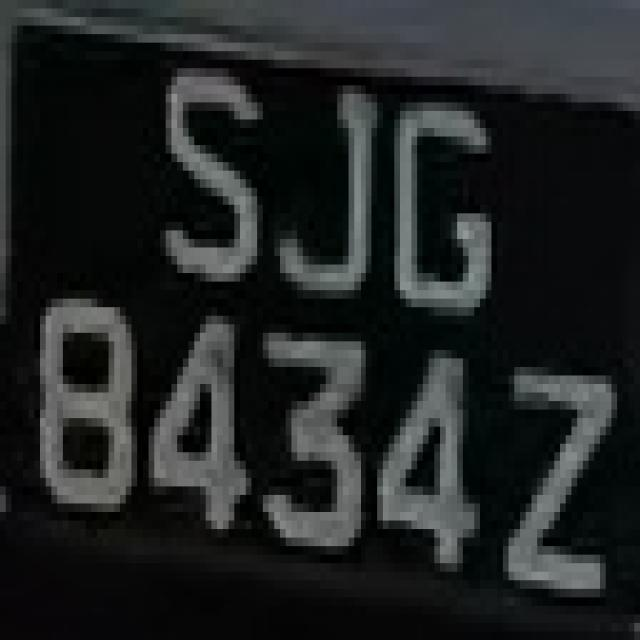3: (252, 307, 377, 580)
4: (137, 282, 263, 538), (360, 316, 474, 580)
8: (23, 256, 148, 563)
G: (372, 68, 497, 342)
J: (252, 68, 388, 307)
S: (137, 59, 257, 298)
Z: (497, 298, 622, 640)
